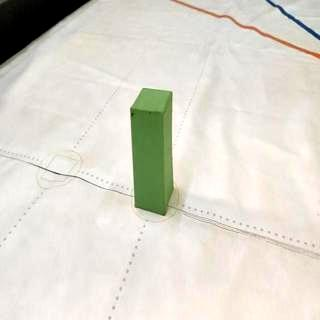greenbox: (128, 86, 176, 216)
